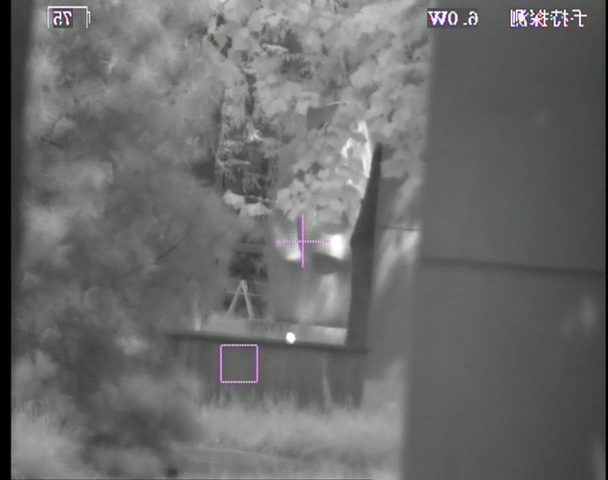my: (284, 330, 296, 345)
